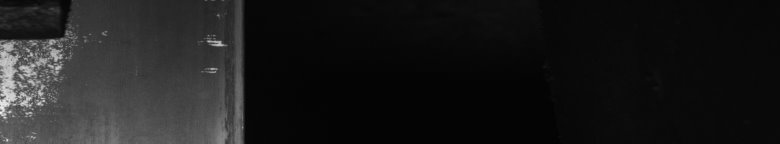kb: (4, 8, 107, 120)
